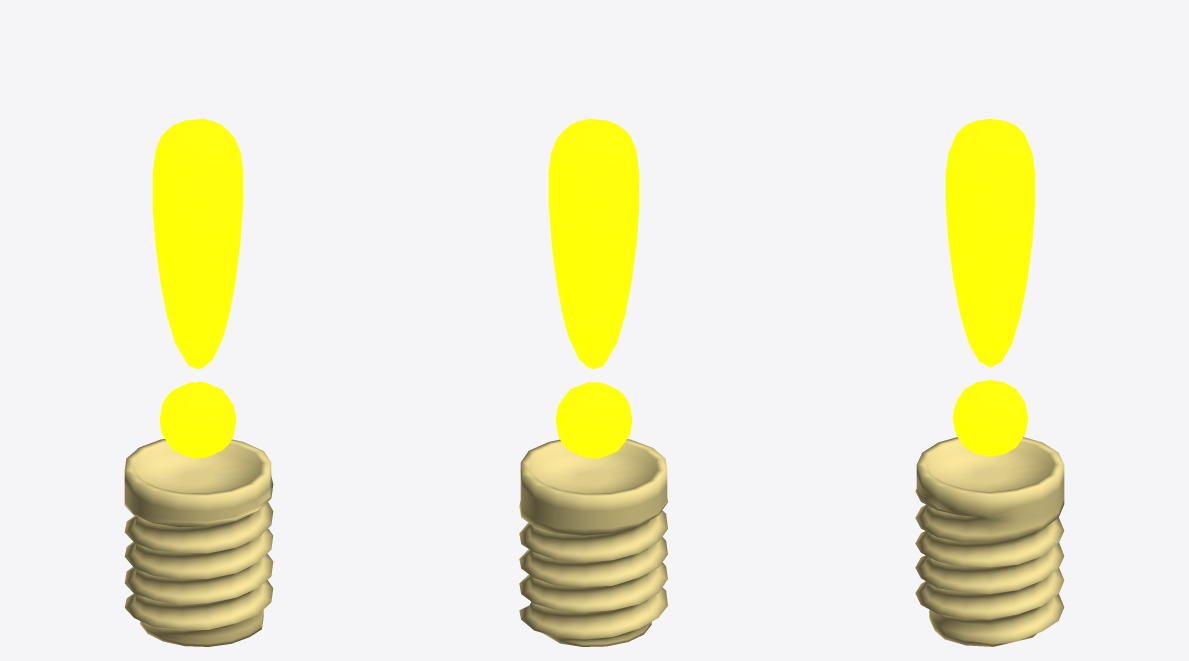
3 renders of one model, left to right at view 1: azimuth 30°, elevation 25°; view 2: azimuth 150°, elevation 25°; view 3: azimuth 270°, elevation 25°, orthographic.
Parts seen in each view (by area): view 1: Base, Cube; view 2: Base, Cube; view 3: Base, Cube.
Boxes of the visible parts, <box> form: Base: <box>124,439,273,646</box>; Cube: <box>152,119,243,458</box>; Base: <box>519,439,667,646</box>; Cube: <box>548,119,639,458</box>; Base: <box>915,437,1064,646</box>; Cube: <box>945,119,1035,456</box>.
Bounding box in the file's own units: 52.7 × 94.09 × 52.7.
1 material, 1 textured.
